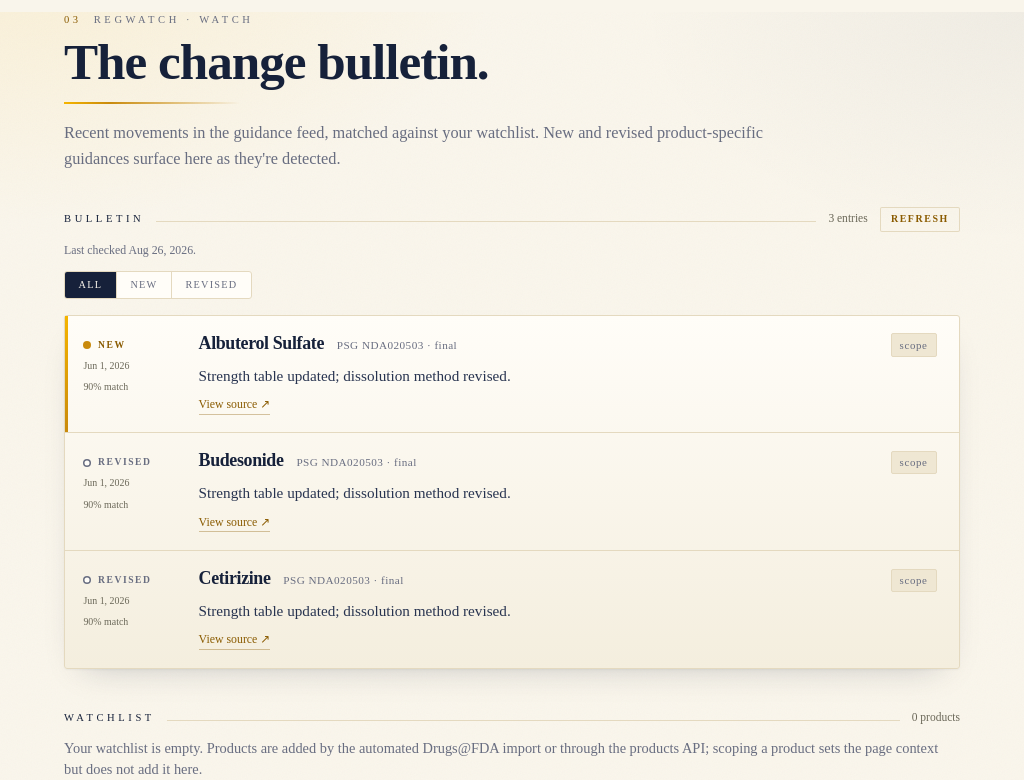
WatchPage -- the change bulletin (surface 03) › filters the bulletin by kind and keeps the entries counter honest
Check: the text "Albuterol Sulfate" is shown, box [199,334,324,352]
Check: the text "3 entries" is shown, box [828,210,868,227]
Click the button "New". click: click(143, 285)
box: [116,272,171,298]
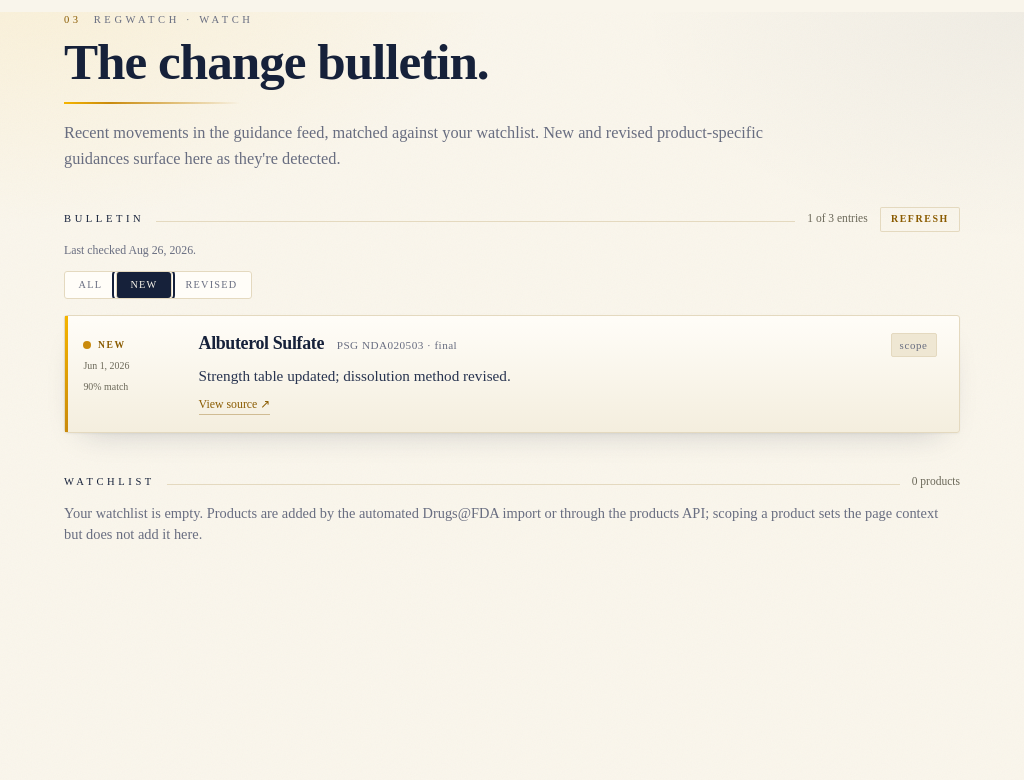
Check: the text "1 of 3 entries" is shown, box [807,210,868,227]
Check: the text "Budesonide" is gone
Check: the text "Cetirizine" is gone
Click the button "Revised". click: click(211, 285)
box: [171,272,251,298]
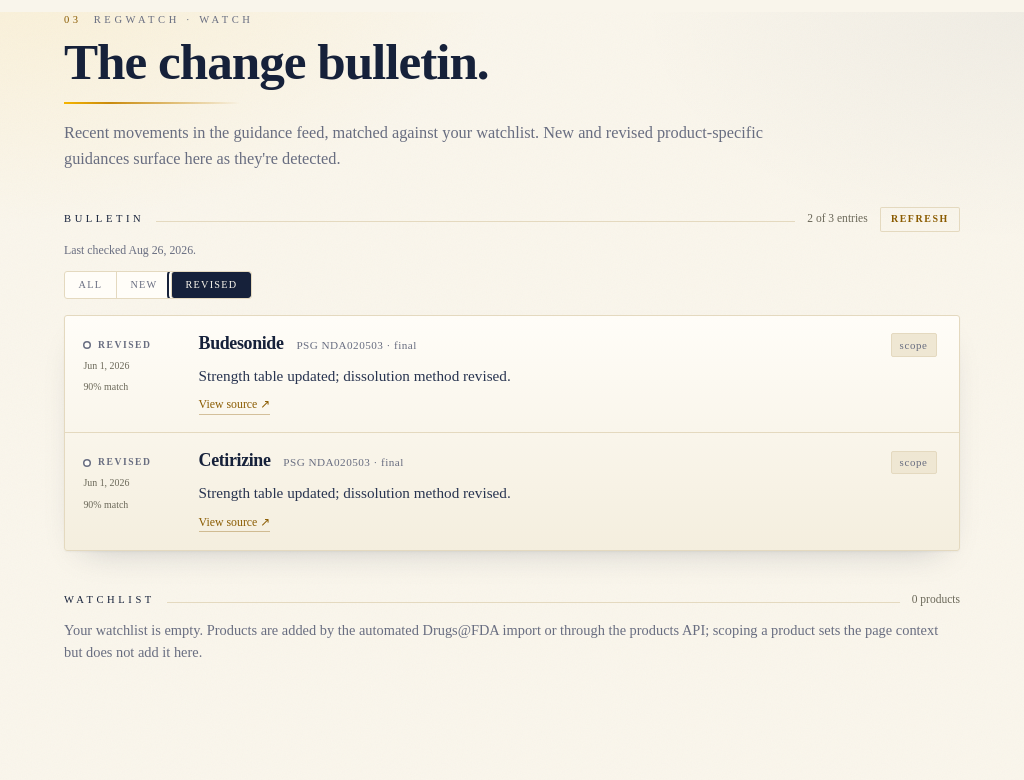
Check: the text "2 of 3 entries" is shown, box [807,210,868,227]
Check: the text "Albuterol Sulfate" is gone
Check: the text "Budesonide" is shown, box [199,334,284,352]
Click the button "All". click: click(90, 285)
box: [65,272,116,298]
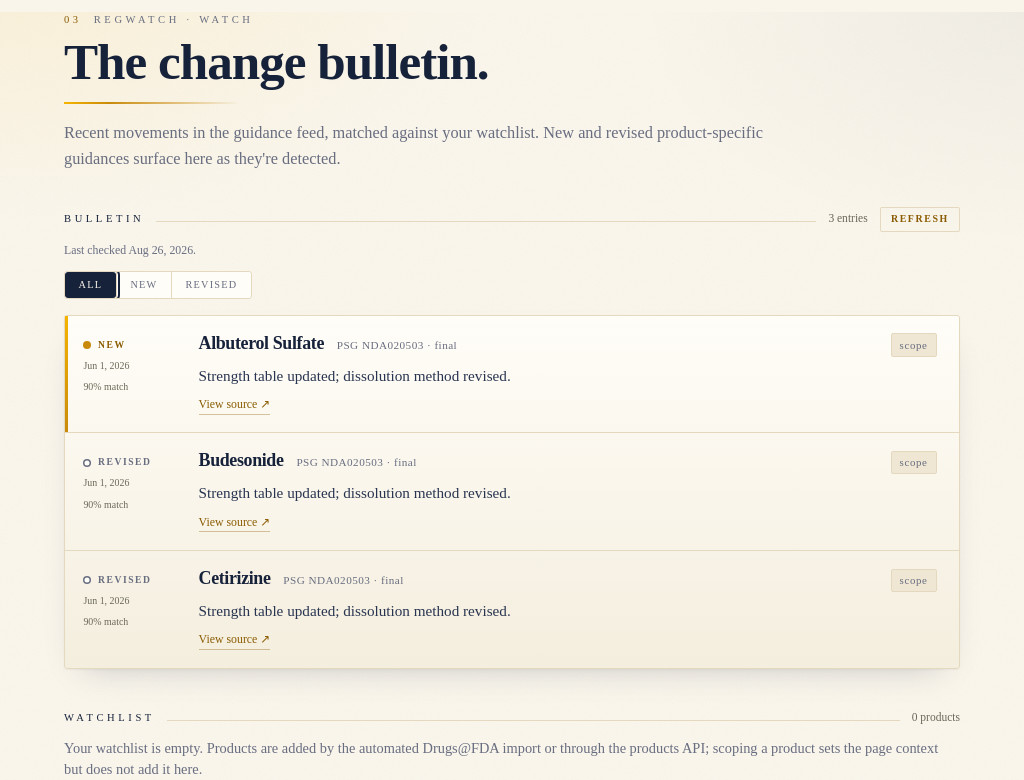
Check: the text "3 entries" is shown, box [828,210,868,227]
Check: the text "Albuterol Sulfate" is shown, box [199,334,324,352]
